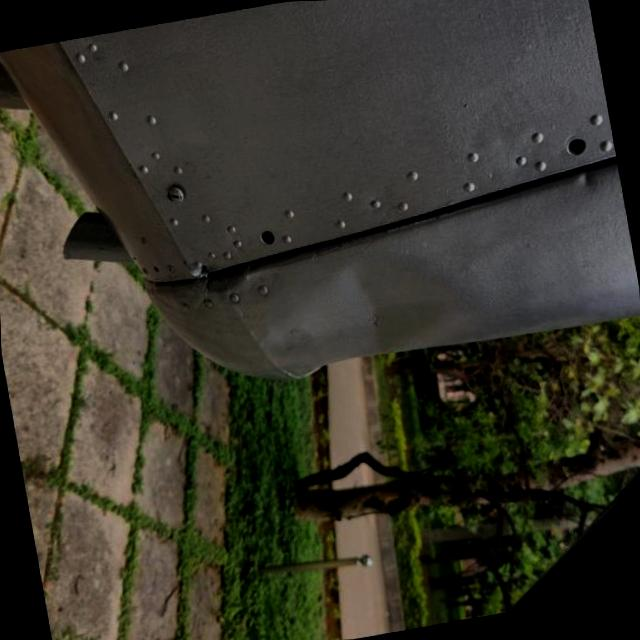Missing Fastener: (568, 136, 588, 154), (260, 228, 276, 244)
dent: (264, 247, 500, 367)
